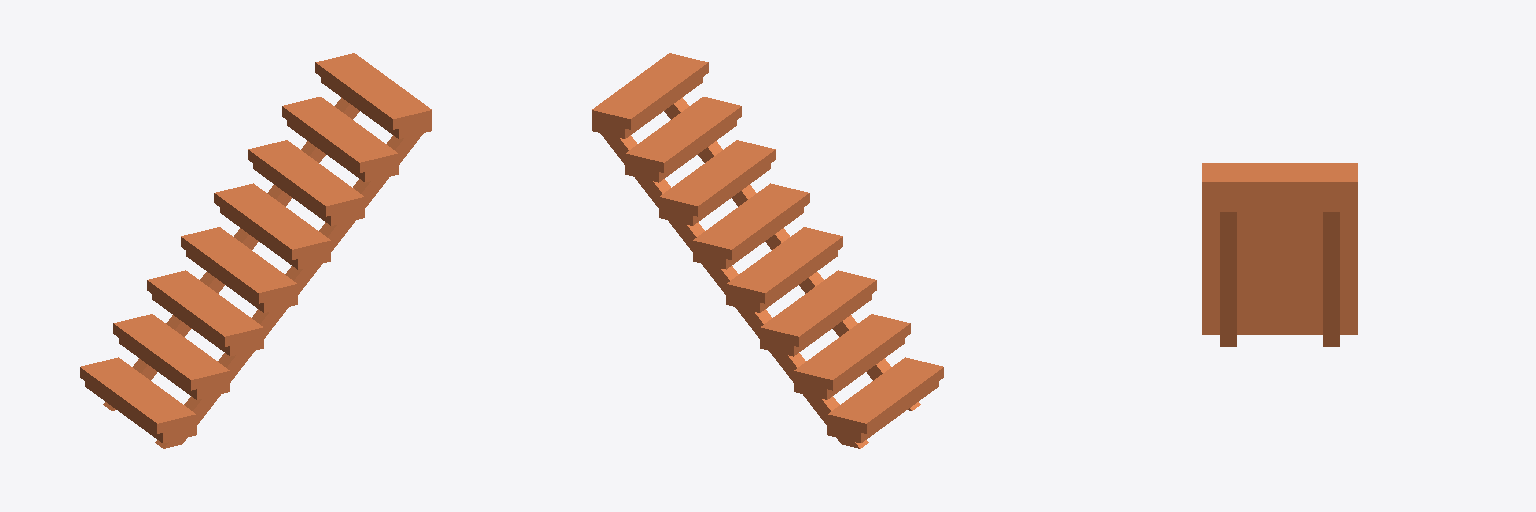
The model's file is stairsWood.obj.
3 renders of one model, left to right at view 1: azimuth 30°, elevation 25°; view 2: azimuth 150°, elevation 25°; view 3: azimuth 270°, elevation 25°, orthographic.
Visible parts, largest first — view 1: stairsWood; view 2: stairsWood; view 3: stairsWood.
Boxes of the visible parts, x1=… form: stairsWood: x1=80, y1=53, x2=431, y2=448; stairsWood: x1=592, y1=53, x2=943, y2=448; stairsWood: x1=1202, y1=163, x2=1357, y2=346.
Bounding box in the file's own units: 1.02 × 1 × 0.5.